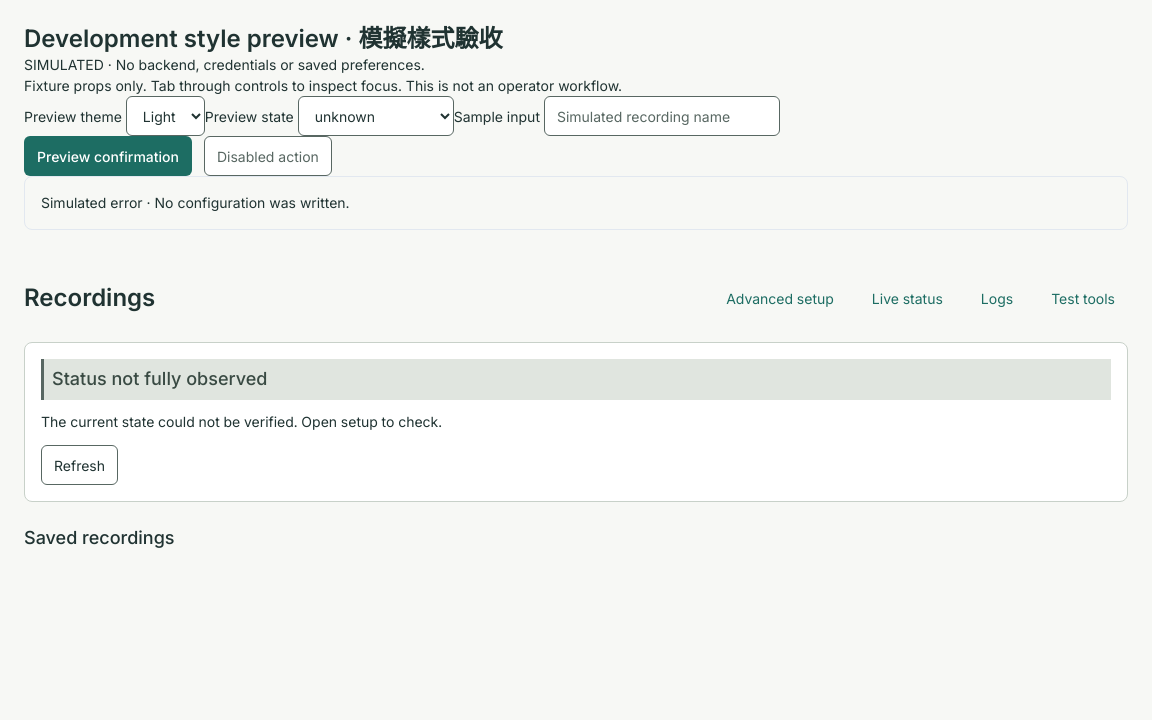
isolated actual recording style preview › exercises actual home, inputs, statuses and portal with no network or persisted preference writes
Expected: the text "SIMULATED · No backend, credentials or saved preferences." is shown, [24, 56, 425, 73]
Select "Dark" in the dropdown labelled "Preview theme". click: (165, 116)
box: [126, 96, 205, 136]
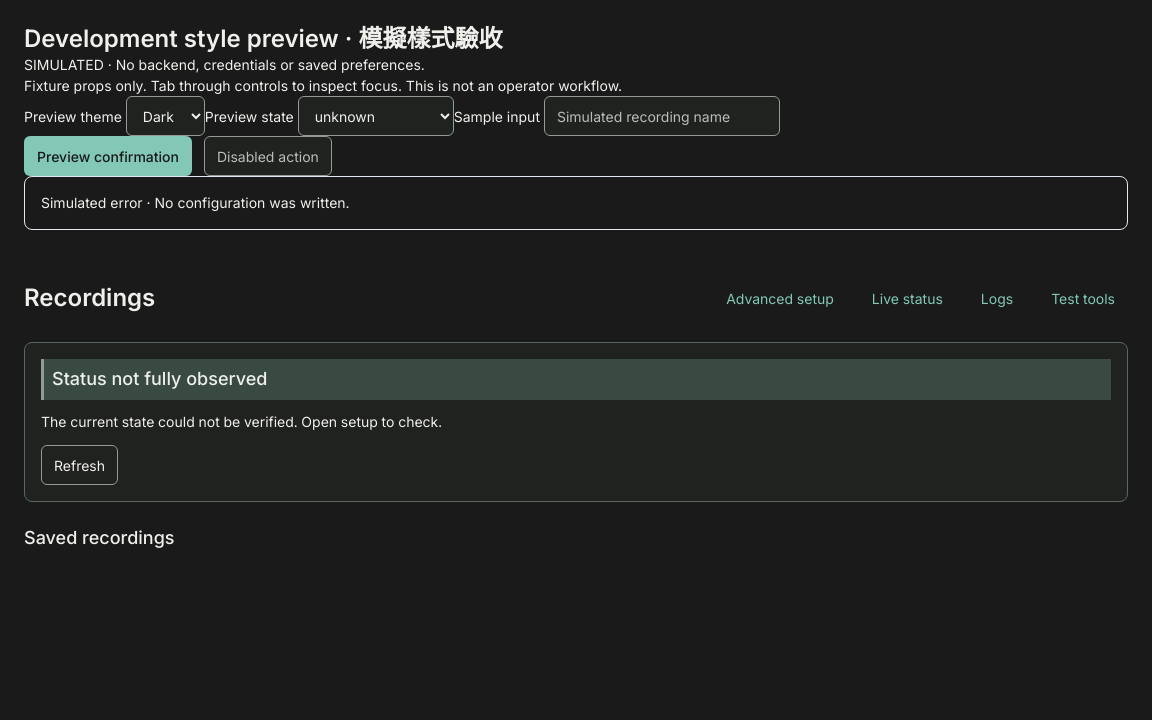
Select "error" in the dropdown labelled "Preview state". click: (376, 116)
box: [298, 96, 454, 136]
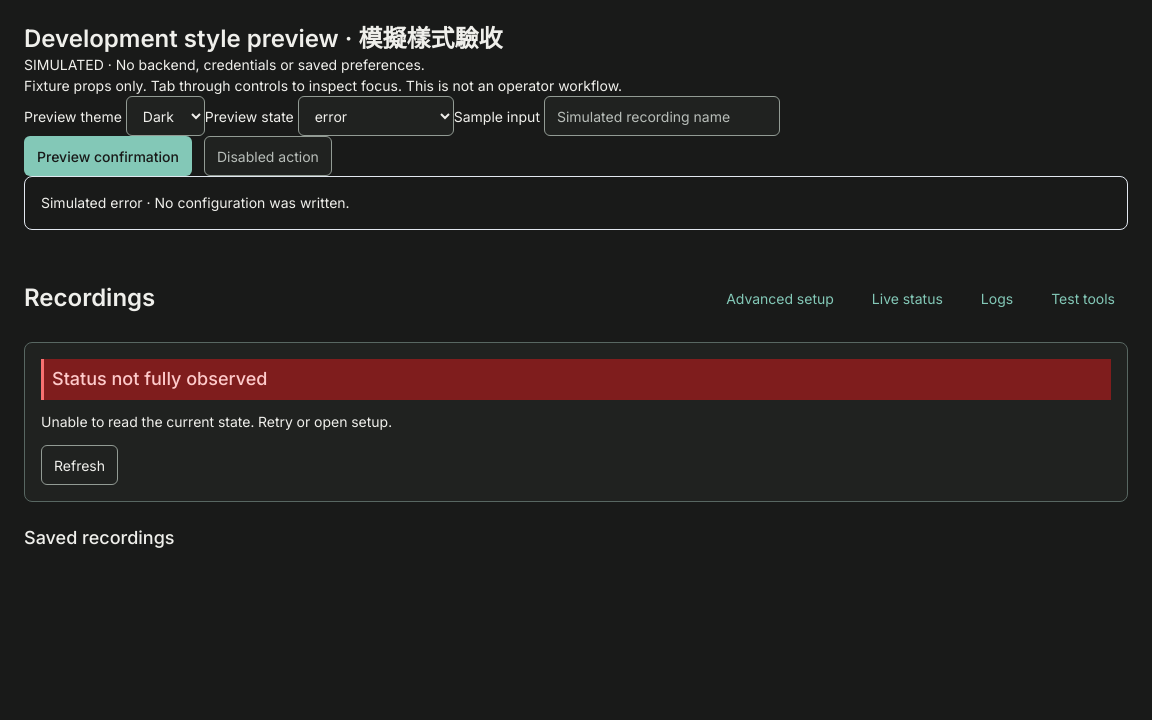
Expected: the element with test id "recording-home-guidance" has attribute data-guidance-state="error", [24, 342, 1128, 502]
Type "sample" into the field labelled "Sample input". click: (662, 116)
box: [544, 96, 780, 136]
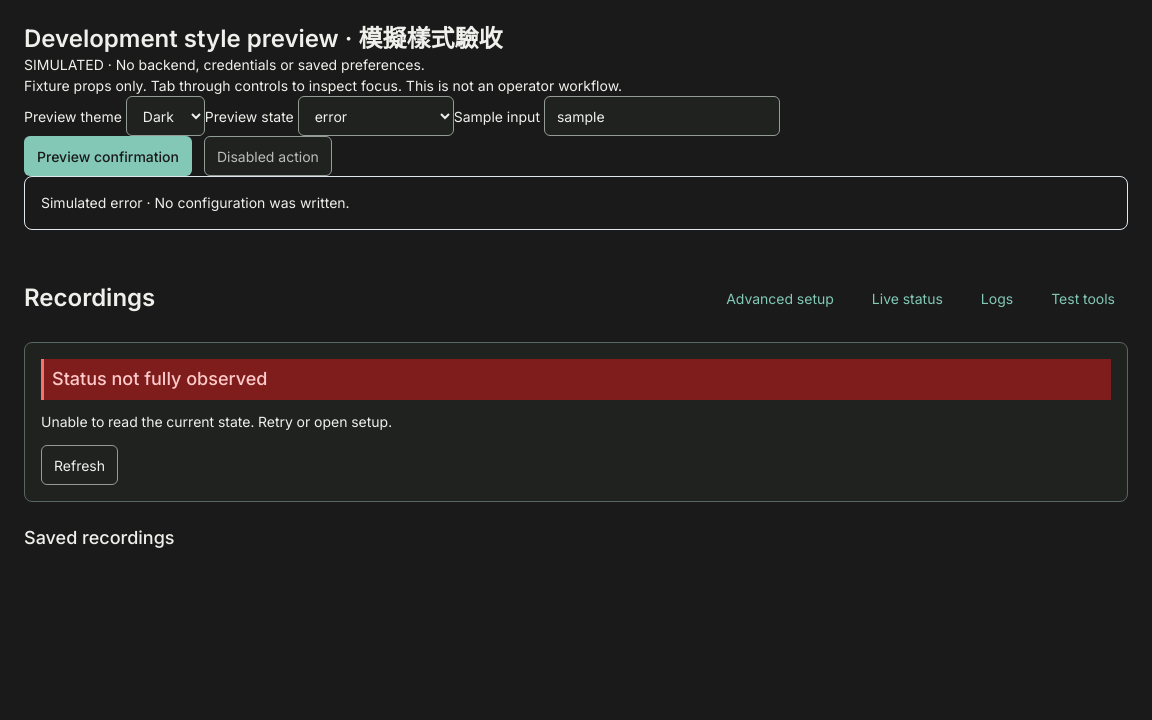
Expected: the button "Disabled action" is disabled, [204, 136, 332, 176]
Click the button "Preview confirmation". click: (108, 156)
box: [24, 136, 192, 176]
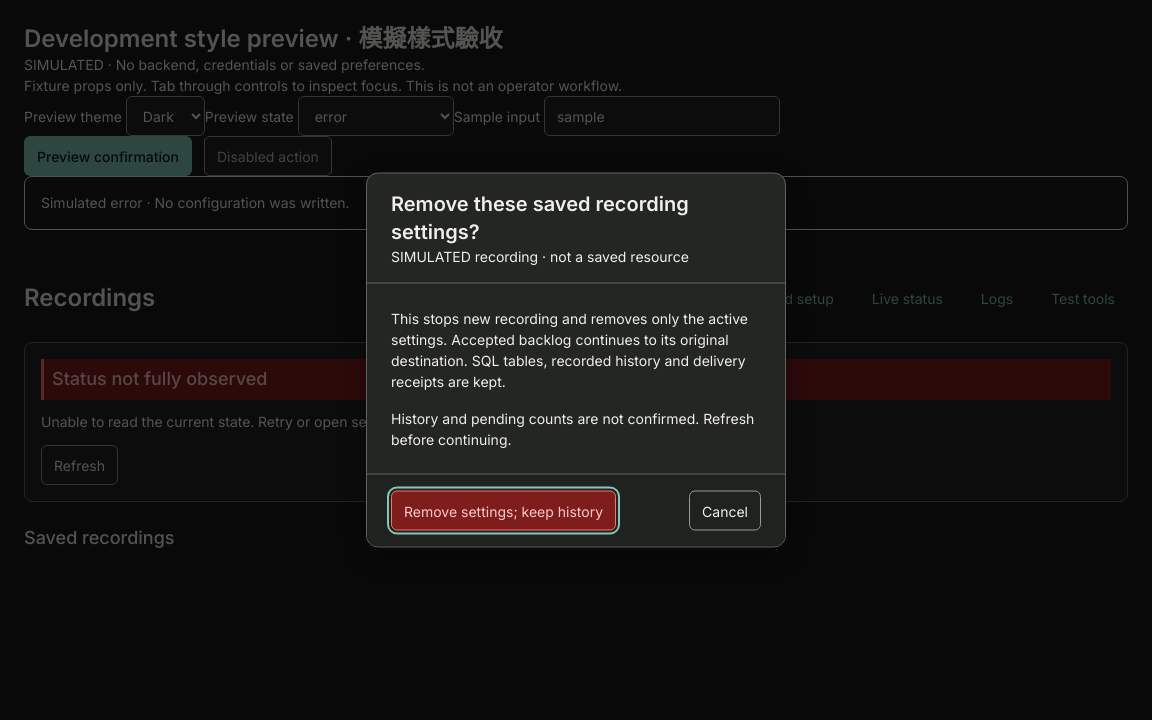
Click the button with test id "group-delete-confirm-button". click: (504, 510)
box: [391, 490, 616, 530]
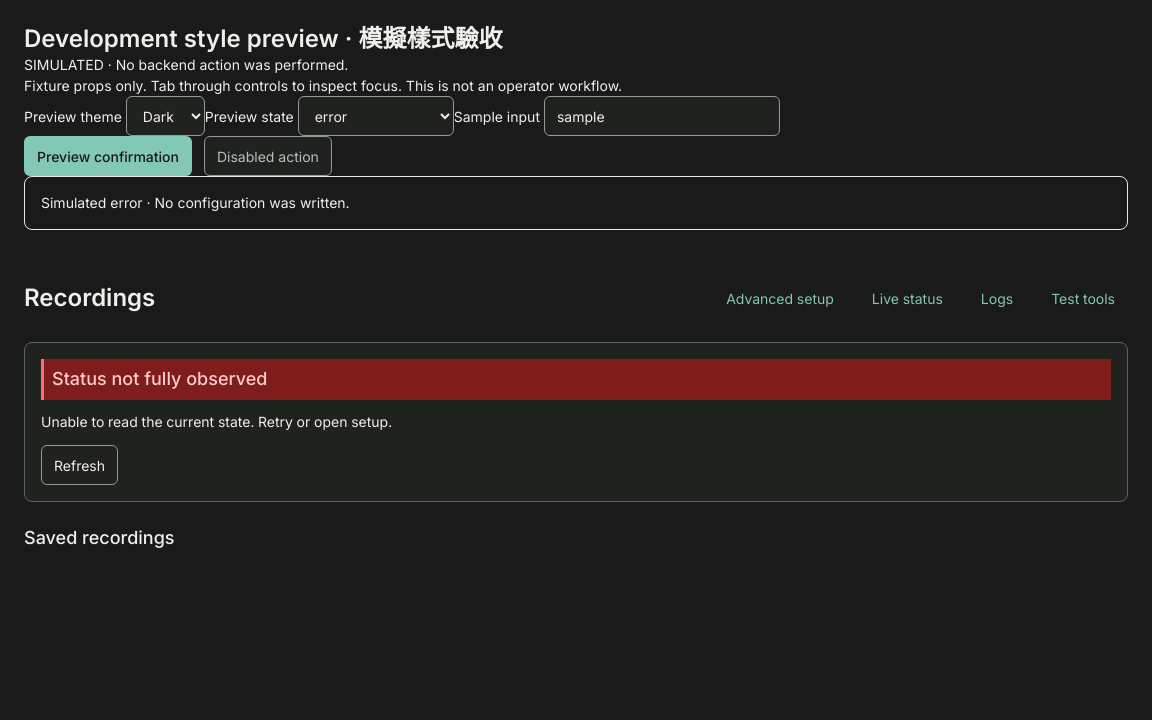
Expected: the dialog is gone
Expected: the message labelled "SIMULATED · No backend, credentials or saved preferences." is gone
